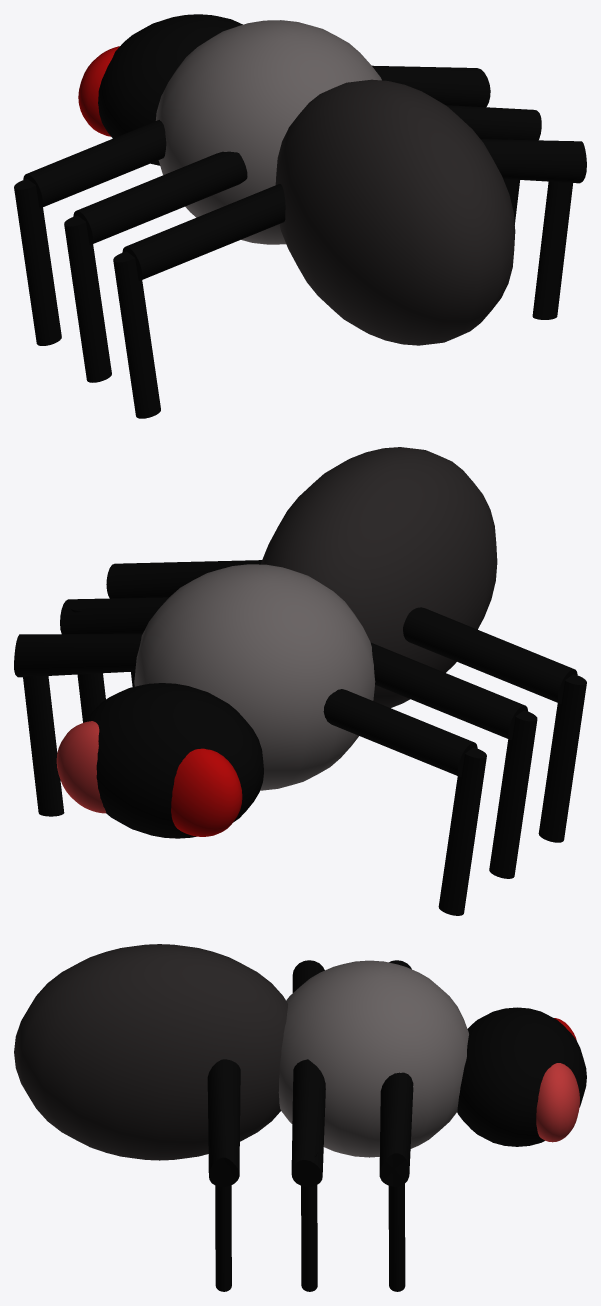
File: bug.fbx
The picture shows the model from 3 angles, top to bottom: view 1: azimuth 30°, elevation 25°; view 2: azimuth 150°, elevation 25°; view 3: azimuth 270°, elevation 25°; orthographic projection. The views are drawn at different scales.
Visible parts, largest first — view 1: abs, body, head, pCylinder3, pCylinder5, pCylinder1, pCylinder4, pCylinder6, pCylinder2, pCylinder9, pCylinder12, pCylinder8 (+2 smaller); view 2: body, abs, head, pCylinder5, pCylinder3, pCylinder1, pCylinder8, pSphere2, pCylinder6, pCylinder4, pCylinder2, pCylinder10 (+4 smaller); view 3: abs, body, head, pCylinder9, pCylinder7, pCylinder8, pSphere1, pCylinder11, pCylinder10, pCylinder12, pCylinder3.
Boxes of the visible parts, x1,y1,x2,y2 form: abs: [275, 79, 515, 345]; body: [155, 20, 381, 244]; head: [98, 14, 242, 165]; pCylinder3: [73, 151, 247, 244]; pCylinder5: [122, 184, 285, 280]; pCylinder1: [23, 120, 166, 208]; pCylinder4: [64, 215, 111, 382]; pCylinder6: [113, 251, 160, 418]; pCylinder2: [14, 179, 61, 345]; pCylinder9: [480, 139, 586, 183]; pCylinder12: [532, 181, 572, 319]; pCylinder8: [372, 65, 490, 107]; body: [134, 564, 375, 790]; abs: [261, 447, 497, 707]; head: [85, 683, 263, 838]; pCylinder5: [403, 607, 577, 703]; pCylinder3: [371, 642, 528, 739]; pCylinder1: [323, 689, 477, 776]; pCylinder8: [14, 633, 142, 677]; pSphere2: [171, 748, 242, 836]; pCylinder6: [538, 674, 586, 842]; pCylinder4: [489, 710, 537, 878]; pCylinder2: [438, 747, 486, 915]; pCylinder10: [23, 675, 64, 816]; abs: [14, 944, 287, 1160]; body: [278, 960, 468, 1157]; head: [457, 1007, 586, 1146]; pCylinder9: [207, 1059, 240, 1186]; pCylinder7: [291, 1059, 325, 1186]; pCylinder8: [379, 1072, 413, 1186]; pSphere1: [536, 1063, 579, 1142]; pCylinder11: [301, 1150, 317, 1291]; pCylinder10: [388, 1184, 405, 1291]; pCylinder12: [215, 1185, 231, 1291]; pCylinder3: [292, 960, 324, 992].
Bounding box in the file's own units: 2.62 × 1.57 × 3.17.
